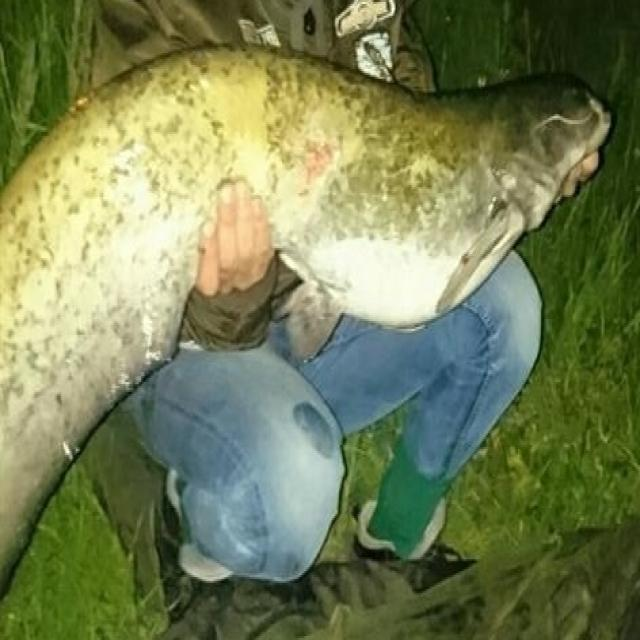Catfish: (8, 48, 618, 640)
